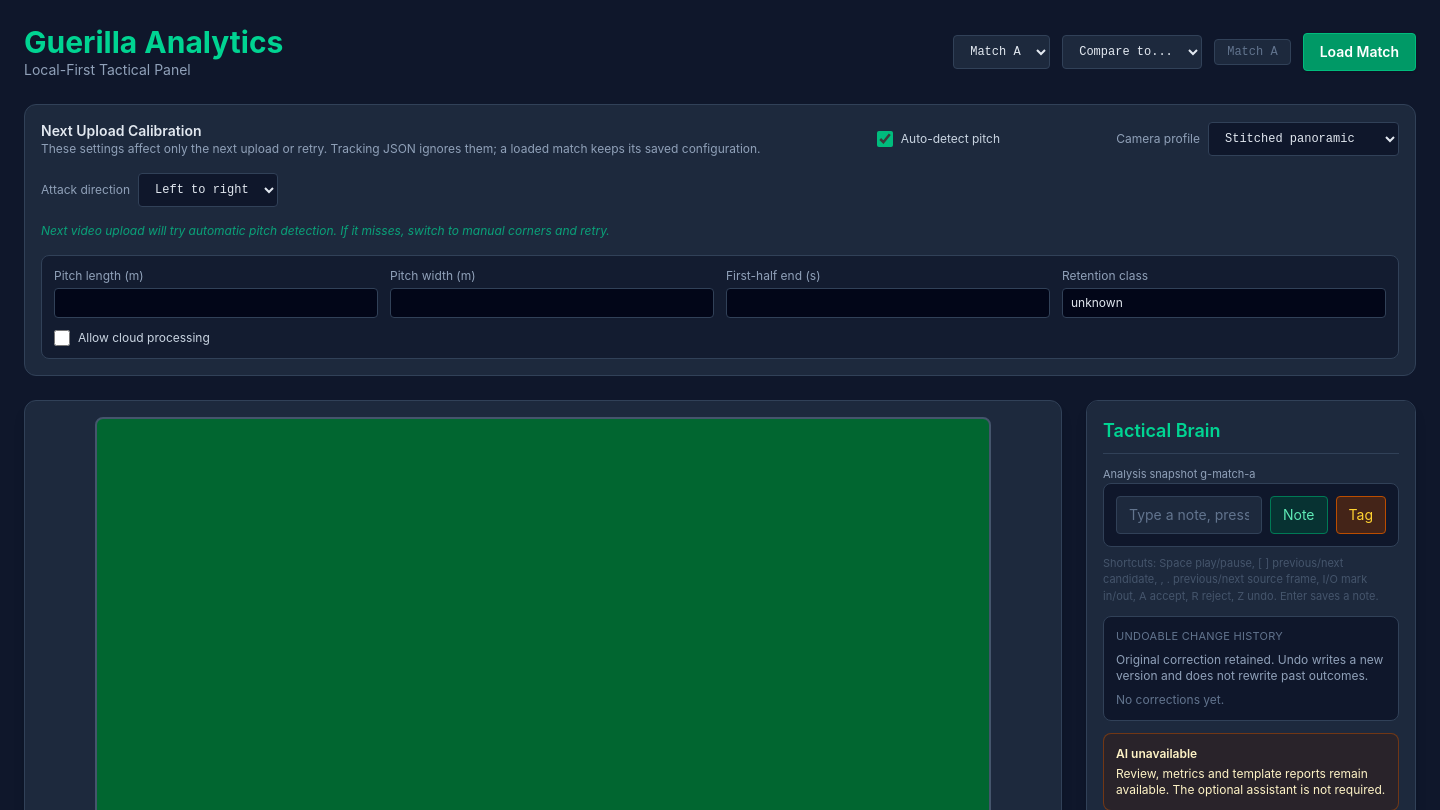
Test: App match workspace loading › ignores late selected-match success and cleanup after a newer load
The image size is (1440, 810).
Expected: the text "Match A" is shown, left=1214, top=39, right=1291, bottom=65
Select "Match B" in the dropdown named "Active match": point(1002, 52) left=953, top=35, right=1050, bottom=69
Select "Match C" in the dropdown named "Active match": point(1002, 52) left=953, top=35, right=1050, bottom=69
(page scrolled)
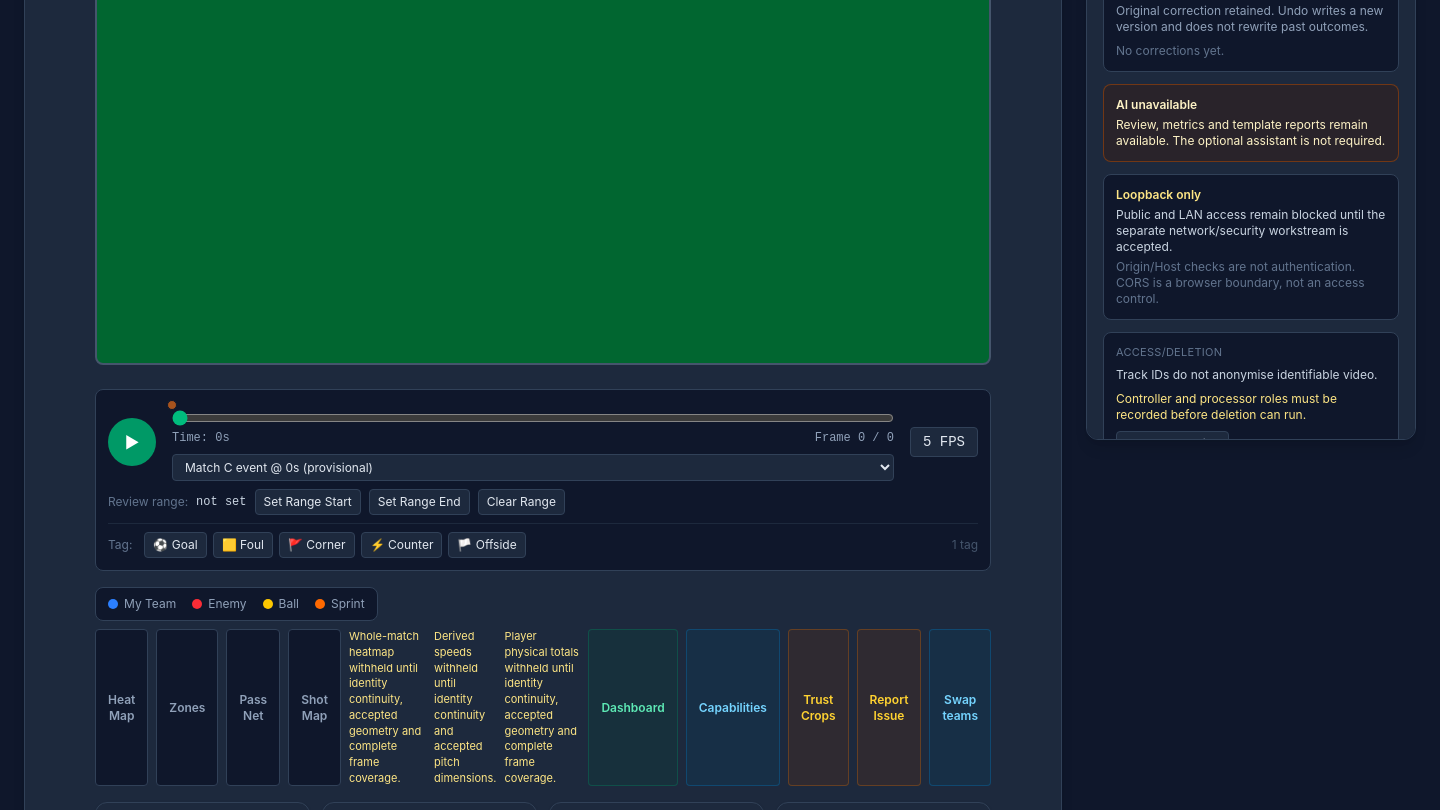
Expected: the button titled "Match C event @ 0s" is shown, left=167, top=400, right=177, bottom=410
